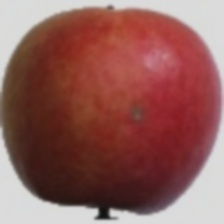apple: (5, 33, 189, 202)
